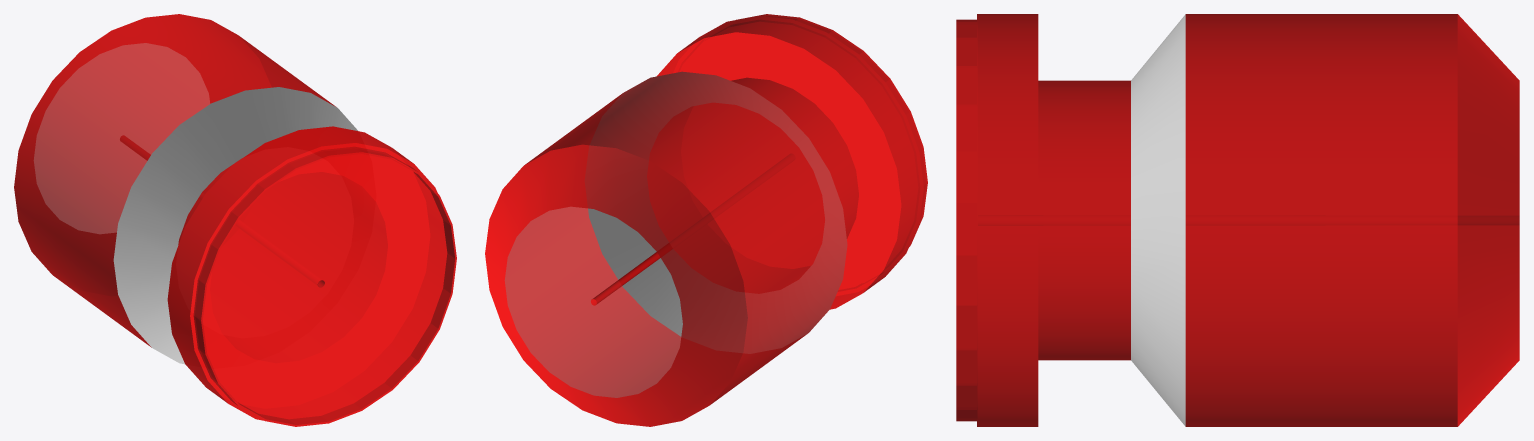
The model's file is model_align.obj.
3 renders of one model, left to right at view 1: azimuth 30°, elevation 25°; view 2: azimuth 150°, elevation 25°; view 3: azimuth 270°, elevation 25°, orthographic. The views are drawn at different scales.
Parts seen in each view (by area): view 1: mesh1_mesh1-geometry; view 2: mesh1_mesh1-geometry; view 3: mesh1_mesh1-geometry.
Part boxes in pixels (bbox=[...]): mesh1_mesh1-geometry: bbox=[14, 14, 456, 426]; mesh1_mesh1-geometry: bbox=[485, 14, 927, 426]; mesh1_mesh1-geometry: bbox=[956, 14, 1519, 426].
Size of the model in its own units: 0.0886 by 0.0886 by 0.1203.
